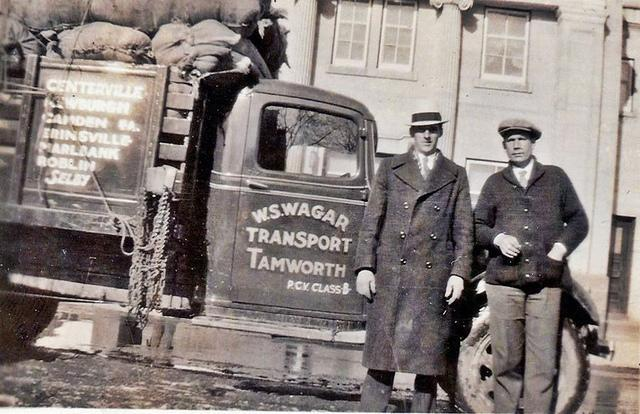truck: (0, 52, 618, 410)
